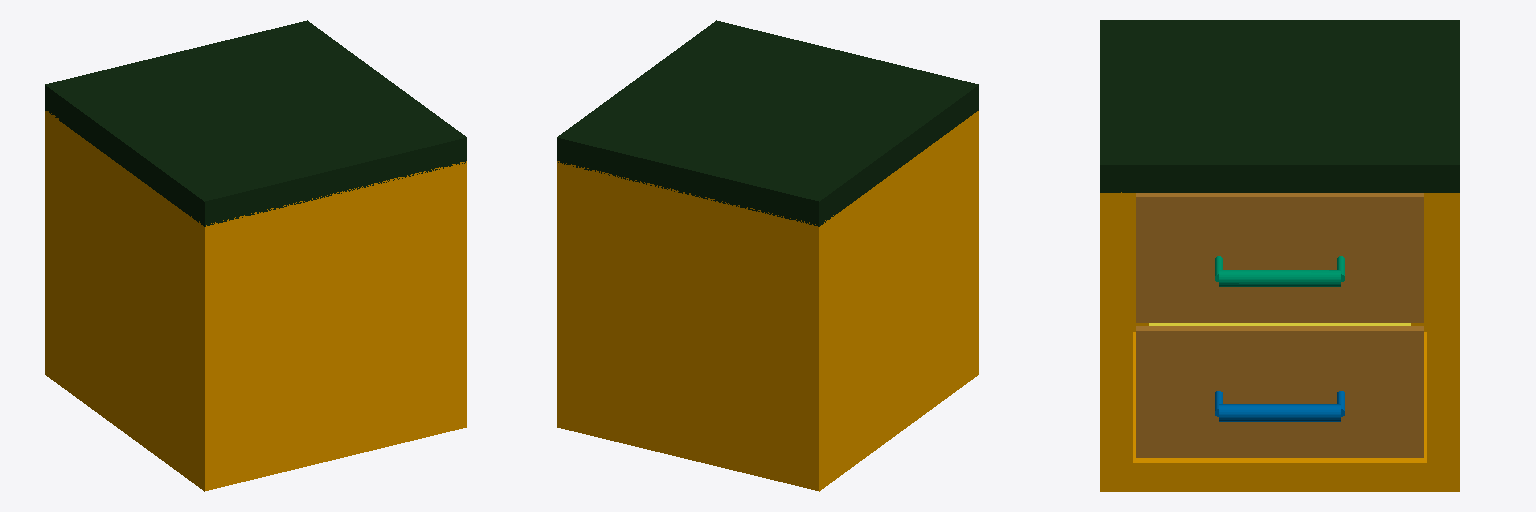
URDF robot description (small_drawer):
<robot name="small_drawer">
  <link name="body">
    <visual>
      <origin rpy="0 0 0" xyz="0 0 0.1885"/>
      <geometry>
        <box size="0.392 0.413 0.036"/>
      </geometry>
      <material name="blue">
        <color rgba="0.1 0.2 0.1 1"/>
      </material>
    </visual>
    <collision>
      <origin rpy="0 0 0" xyz="0 0 0.1885"/>
      <geometry>
        <box size="0.392 0.413 0.036"/>
      </geometry>
    </collision>
    <visual>
      <origin rpy="0 0 0" xyz="0 0 -0.1885"/>
      <geometry>
        <box size="0.392 0.413 0.036"/>
      </geometry>
    </visual>
    <collision>
      <origin rpy="0 0 0" xyz="0 0 -0.1885"/>
      <geometry>
        <box size="0.392 0.413 0.036"/>
      </geometry>
    </collision>
    <visual>
      <origin rpy="0 0 0" xyz="0 0.1875 0"/>
      <geometry>
        <box size="0.392 0.038 0.347"/>
      </geometry>
    </visual>
    <collision>
      <origin rpy="0 0 0" xyz="0 0.1875 0"/>
      <geometry>
        <box size="0.392 0.038 0.347"/>
      </geometry>
    </collision>
    <visual>
      <origin rpy="0 0 0" xyz="0 -0.1875 0"/>
      <geometry>
        <box size="0.392 0.038 0.347"/>
      </geometry>
    </visual>
    <collision>
      <origin rpy="0 0 0" xyz="0 -0.1875 0"/>
      <geometry>
        <box size="0.392 0.038 0.347"/>
      </geometry>
    </collision>
    <visual>
      <origin rpy="0 0 0" xyz="-0.178 0 0"/>
      <geometry>
        <box size="0.036 0.347 0.341"/>
      </geometry>
    </visual>
    <collision>
      <origin rpy="0 0 0" xyz="-0.178 0 0"/>
      <geometry>
        <box size="0.036 0.347 0.341"/>
      </geometry>
    </collision>
     <inertial>
        <origin rpy="0 0 0" xyz="0 0 0"/>
        <mass value="1"/>
        <inertia ixx="0.1" ixy="0" ixz="0" iyy="0.1" iyz="0" izz="0.1"/>
    </inertial>
  </link>
  
  <link name="drawer_top">
    <origin rpy="0 0 0" xyz="0.02 0 0"/>
    <visual>
      <origin rpy="0 0 0" xyz="0.166 0 0"/>
      <geometry>
        <box size="0.015 0.33 0.16"/>
      </geometry>
      <material name="brown">
        <color rgba="0.7 0.5 0.2 1"/>
      </material>
    </visual>
    <visual>
      <origin rpy="0 0 0" xyz="-0.0065 0.144 -0.02"/>
      <geometry>
        <box size="0.33 0.012 0.085"/>
      </geometry>
    </visual>
    <visual>
      <origin rpy="0 0 0" xyz="-0.0065 -0.144 -0.0295"/>
      <geometry>
        <box size="0.33 0.012 0.085"/>
      </geometry>
    </visual>
    <visual>
      <origin rpy="0 0 0" xyz="-0.1675 0 -0.02"/>
      <geometry>
        <box size="0.012 0.276 0.085"/>
      </geometry>
    </visual>
    <visual>
      <origin rpy="0 0 0" xyz="0 0 -0.05"/>
      <geometry>
        <box size="0.33 0.276 0.01"/>
      </geometry>
    </visual>

    <collision>
      <origin rpy="0 0 0" xyz="0.166 0 0"/>
      <geometry>
        <box size="0.015 0.33 0.16"/>
      </geometry>
    </collision>
    <collision>
      <origin rpy="0 0 0" xyz="-0.0065 0.144 -0.02"/>
      <geometry>
        <box size="0.33 0.012 0.085"/>
      </geometry>
    </collision>
    <collision>
      <origin rpy="0 0 0" xyz="-0.0065 -0.144 -0.0295"/>
      <geometry>
        <box size="0.33 0.012 0.085"/>
      </geometry>
    </collision>
    <collision>
      <origin rpy="0 0 0" xyz="-0.1675 0 -0.02"/>
      <geometry>
        <box size="0.012 0.276 0.085"/>
      </geometry>
    </collision>
    <collision>
      <origin rpy="0 0 0" xyz="0 0 -0.05"/>
      <geometry>
        <box size="0.33 0.276 0.01"/>
      </geometry>
    </collision>

    <inertial>
        <origin rpy="0 0 0" xyz="0 0 0"/>
        <mass value="1"/>
        <inertia ixx="0.1" ixy="0" ixz="0" iyy="0.1" iyz="0" izz="0.1"/>
    </inertial>
  </link>

  <joint name="drawer_top_joint" type="prismatic">
    <origin rpy="0 0 0" xyz="0.02 0 0.08525" />
    <parent link="body" />
    <child link="drawer_top" />
    <axis xyz="1 0 0" />
    <dynamics damping="0.5" friction="0.98"/>
    <limit effort="60" lower="0.0" upper="0.22" velocity="1.0"/>
  </joint>

  <link name="handle_top">
    <visual>
      <origin rpy="1.57 0 0" xyz="0.05 0 0"/>
      <geometry>
        <!-- <cylinder radius="0.005" length="0.14"/> -->
        <cylinder radius="0.01" length="0.14"/>
      </geometry>
    </visual>
    <visual>
      <origin rpy="0 1.57 0" xyz="0.025 0.07 0"/>
      <geometry>
        <cylinder radius="0.005" length="0.05"/>
      </geometry>
    </visual>
    <visual>
      <origin rpy="0 1.57 0" xyz="0.025 -0.07 0"/>
      <geometry>
        <cylinder radius="0.005" length="0.05"/>
      </geometry>
    </visual>

    <collision>
      <origin rpy="1.57 0 0" xyz="0.05 0 0"/>
      <geometry>
        <!-- <cylinder radius="0.005" length="0.14"/> -->
        <cylinder radius="0.01" length="0.14"/>
      </geometry>
    </collision>
    <collision>
      <origin rpy="0 1.57 0" xyz="0.025 0.07 0"/>
      <geometry>
        <cylinder radius="0.005" length="0.05"/>
      </geometry>
    </collision>
    <collision>
      <origin rpy="0 1.57 0" xyz="0.025 -0.07 0"/>
      <geometry>
        <cylinder radius="0.005" length="0.05"/>
      </geometry>
    </collision>
    <inertial>
        <origin rpy="0 0 0" xyz="0 0 0"/>
        <mass value="0.1"/>
        <inertia ixx="0.05" ixy="0" ixz="0" iyy="0.05" iyz="0" izz="0.05"/>
    </inertial>
  </link>
  
  <joint name="handle_top_joint" type="fixed">
    <origin rpy="0 0 0" xyz="0.1735 0 0" />
    <parent link="drawer_top" />
    <child link="handle_top" />
  </joint>


  <link name="drawer_bottom">
    <origin rpy="0 0 0" xyz="0.02 0 0"/>
    <visual>
      <origin rpy="0 0 0" xyz="0.166 0 0"/>
      <geometry>
        <box size="0.015 0.33 0.16"/>
      </geometry>
      <material name="brown">
        <color rgba="0.7 0.5 0.2 1"/>
      </material>
    </visual>
    <visual>
      <origin rpy="0 0 0" xyz="-0.0065 0.144 -0.02"/>
      <geometry>
        <box size="0.33 0.012 0.085"/>
      </geometry>
    </visual>
    <visual>
      <origin rpy="0 0 0" xyz="-0.0065 -0.144 -0.0295"/>
      <geometry>
        <box size="0.33 0.012 0.085"/>
      </geometry>
    </visual>
    <visual>
      <origin rpy="0 0 0" xyz="-0.1675 0 -0.02"/>
      <geometry>
        <box size="0.012 0.276 0.085"/>
      </geometry>
    </visual>
    <visual>
      <origin rpy="0 0 0" xyz="0 0 -0.05"/>
      <geometry>
        <box size="0.33 0.276 0.01"/>
      </geometry>
    </visual>

    <collision>
      <origin rpy="0 0 0" xyz="0.166 0 0"/>
      <geometry>
        <box size="0.015 0.33 0.16"/>
      </geometry>
    </collision>
    <collision>
      <origin rpy="0 0 0" xyz="-0.0065 0.144 -0.02"/>
      <geometry>
        <box size="0.33 0.012 0.085"/>
      </geometry>
    </collision>
    <collision>
      <origin rpy="0 0 0" xyz="-0.0065 -0.144 -0.0295"/>
      <geometry>
        <box size="0.33 0.012 0.085"/>
      </geometry>
    </collision>
    <collision>
      <origin rpy="0 0 0" xyz="-0.1675 0 -0.02"/>
      <geometry>
        <box size="0.012 0.276 0.085"/>
      </geometry>
    </collision>
    <collision>
      <origin rpy="0 0 0" xyz="0 0 -0.05"/>
      <geometry>
        <box size="0.33 0.276 0.01"/>
      </geometry>
    </collision>

    <inertial>
        <origin rpy="0 0 0" xyz="0 0 0"/>
        <mass value="1"/>
        <inertia ixx="0.1" ixy="0" ixz="0" iyy="0.1" iyz="0" izz="0.1"/>
    </inertial>
  </link>

  <joint name="drawer_bottom_joint" type="prismatic">
    <origin rpy="0 0 0" xyz="0.02 0 -0.08525" />
    <parent link="body" />
    <child link="drawer_bottom" />
    <axis xyz="1 0 0" />
    <dynamics damping="0.5" friction="0.8"/>
    <limit effort="60" lower="0.0" upper="0.22" velocity="1.0"/>
  </joint>

  <link name="handle_bottom">
    <visual>
      <origin rpy="1.57 0 0" xyz="0.05 0 0"/>
      <geometry>
        <!-- <cylinder radius="0.005" length="0.14"/> -->
        <cylinder radius="0.01" length="0.14"/>
      </geometry>
    </visual>
    <visual>
      <origin rpy="0 1.57 0" xyz="0.025 0.07 0"/>
      <geometry>
        <cylinder radius="0.005" length="0.05"/>
      </geometry>
    </visual>
    <visual>
      <origin rpy="0 1.57 0" xyz="0.025 -0.07 0"/>
      <geometry>
        <cylinder radius="0.005" length="0.05"/>
      </geometry>
    </visual>

    <collision>
      <origin rpy="1.57 0 0" xyz="0.05 0 0"/>
      <geometry>
        <!-- <cylinder radius="0.005" length="0.14"/> -->
        <cylinder radius="0.01" length="0.14"/>
      </geometry>
    </collision>
    <collision>
      <origin rpy="0 1.57 0" xyz="0.025 0.07 0"/>
      <geometry>
        <cylinder radius="0.005" length="0.05"/>
      </geometry>
    </collision>
    <collision>
      <origin rpy="0 1.57 0" xyz="0.025 -0.07 0"/>
      <geometry>
        <cylinder radius="0.005" length="0.05"/>
      </geometry>
    </collision>
    <inertial>
        <origin rpy="0 0 0" xyz="0 0 0"/>
        <mass value="0.1"/>
        <inertia ixx="0.05" ixy="0" ixz="0" iyy="0.05" iyz="0" izz="0.05"/>
    </inertial>
  </link>
  
  <joint name="handle_bottom_joint" type="fixed">
    <origin rpy="0 0 0" xyz="0.1735 0 0" />
    <parent link="drawer_bottom" />
    <child link="handle_bottom" />
  </joint>

  <link name="marker_body"/>

  <joint name="marker_body_joint" type="fixed">
    <origin rpy="0 0 0" xyz="-0.147 0.1575 0.2065"/>
    <parent link="body"/>
    <child  link="marker_body"/>
  </joint>

  <link name="marker_drawer_top"/>

  <joint name="marker_drawer_top_joint" type="fixed">
    <origin rpy="1.57 0 1.57" xyz="0.1735 -0.116 0.031"/>
    <parent link="drawer_top"/>
    <child  link="marker_drawer_top"/>
  </joint>

  <link name="marker_drawer_bottom"/>

  <joint name="marker_drawer_bottom_joint" type="fixed">
    <origin rpy="1.57 0 1.57" xyz="0.1735 -0.116 0.031"/>
    <parent link="drawer_bottom"/>
    <child  link="marker_drawer_bottom"/>
  </joint>
</robot>

--- What the picture shows (computed from the rendered views, not written in the file) ---
Views: 3 orthographic renders of the robot side by side, from view 1: azimuth 30°, elevation 25°; view 2: azimuth 150°, elevation 25°; view 3: azimuth 270°, elevation 25°.
Model small_drawer with 8 links and 7 joints (2 prismatic, 5 fixed), rooted at body, posed all joints at 0.
Visible links, largest first — view 1: body; view 2: body; view 3: body, drawer_bottom, drawer_top, handle_bottom, handle_top.
Boxes of the visible links, x1,y1,x2,y2 form: body: (45,20,466,491); body: (557,20,978,491); body: (1100,20,1459,491); drawer_bottom: (1136,323,1423,457); drawer_top: (1136,193,1423,322); handle_bottom: (1215,391,1344,421); handle_top: (1215,256,1344,286).
Size in the robot's own frame: 0.4495 by 0.413 by 0.413 metres.
Geometry: primitives only (box / cylinder / sphere), no mesh files.